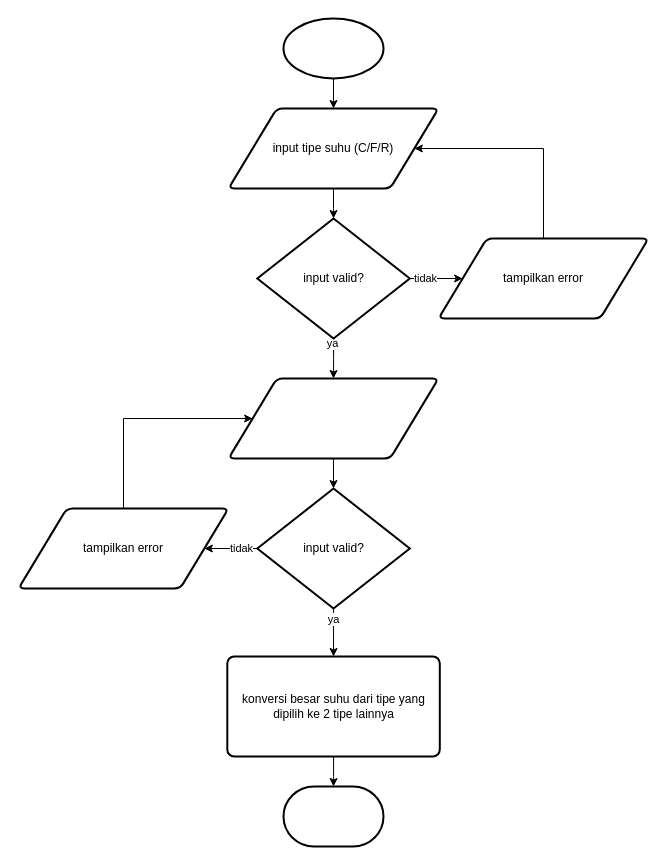
The diagram is 666 pixels wide and 864 high, and some of its shapes have lost their labels. Each missing label, with the centre of its shape:
"input besar suhu" goes at point 333,418.
"mulai" goes at point 333,48.
"selesai" goes at point 333,816.
